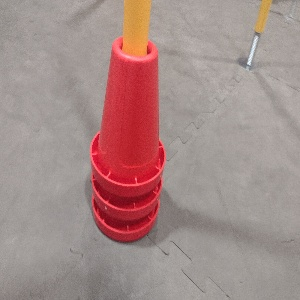Red_3: (88, 31, 166, 243)
